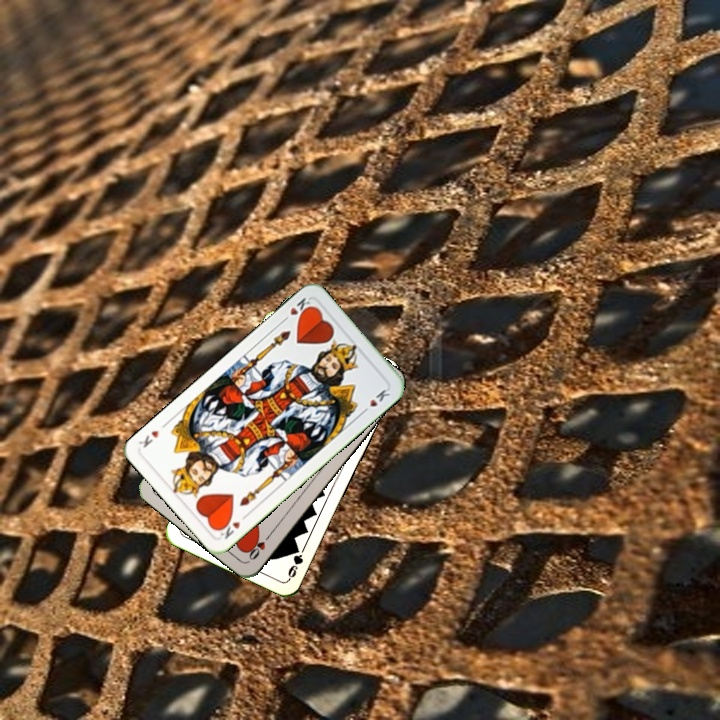G9: (284, 543, 306, 582)
HK: (213, 510, 251, 542), (278, 293, 315, 325)
HO: (244, 529, 274, 563)
